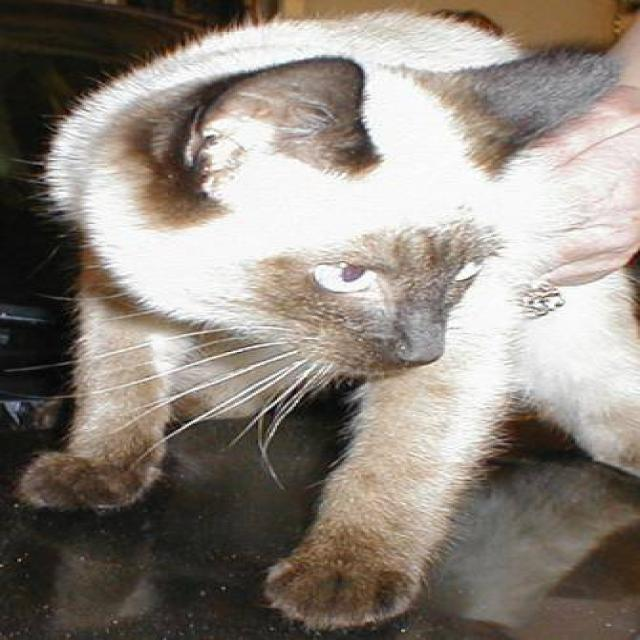cat: (12, 8, 638, 632)
